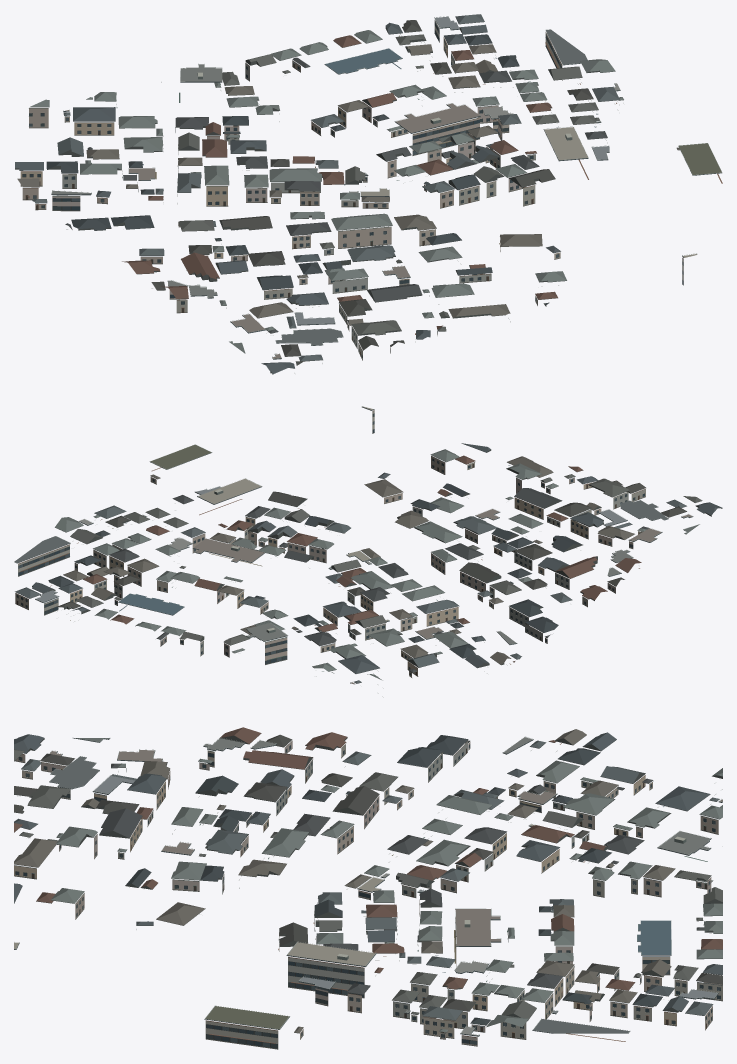
3 renders of one model, top to bottom at view 1: azimuth 30°, elevation 25°; view 2: azimuth 150°, elevation 25°; view 3: azimuth 270°, elevation 25°, orthographic. The views are drawn at different scales.
Parts seen in each view (by area): view 1: r5-c0; view 2: r5-c0; view 3: r5-c0.
Part boxes in pixels (box(x1,y1,x2,y2)): r5-c0: box(15, 14, 722, 374); r5-c0: box(14, 406, 722, 697); r5-c0: box(14, 727, 722, 1049).
Bounding box in the file's own units: 250 × 14.62 × 250.
